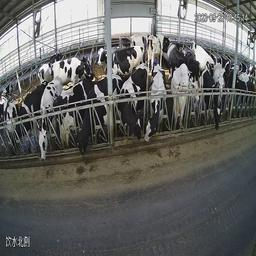cow: (73, 82, 120, 166), (171, 62, 203, 142), (39, 74, 63, 178), (119, 57, 148, 143), (147, 62, 170, 158), (11, 81, 33, 166), (203, 60, 222, 141), (99, 40, 144, 73), (53, 50, 93, 82), (147, 28, 170, 65), (227, 63, 247, 101), (189, 37, 212, 70), (1, 95, 18, 135), (38, 57, 52, 82)
